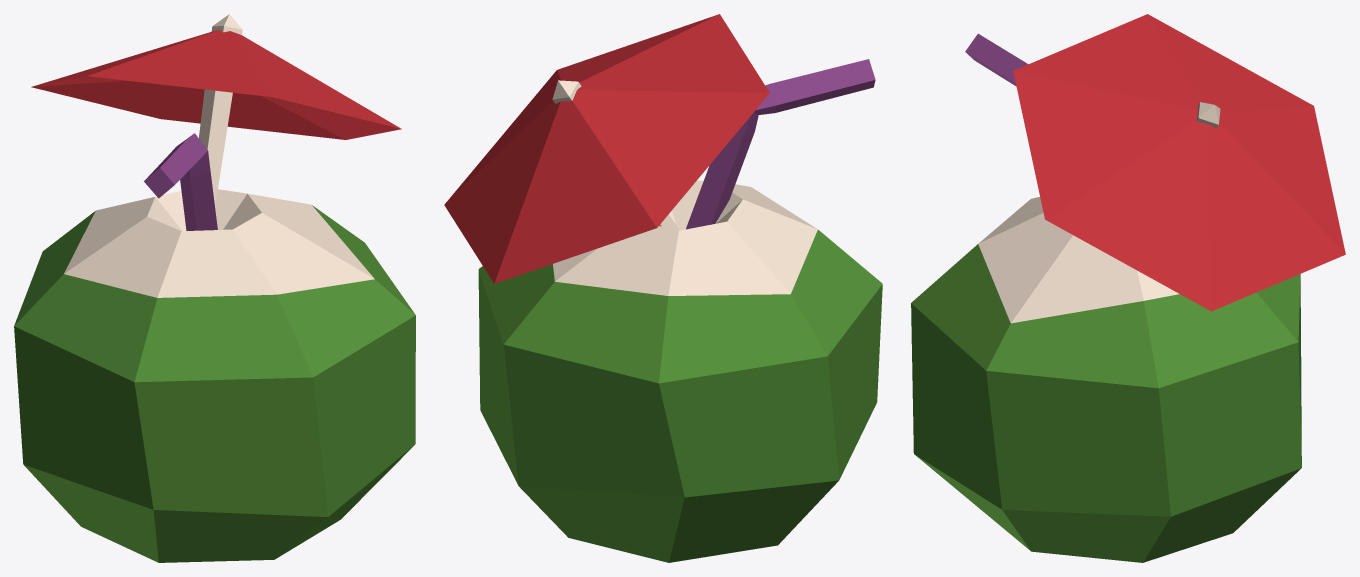
Rendered from drinks-drink-coconut.glb.
The picture shows the model from 3 angles, left to right: view 1: azimuth 30°, elevation 25°; view 2: azimuth 150°, elevation 25°; view 3: azimuth 270°, elevation 25°; orthographic projection.
Parts seen in each view (by area): view 1: drink-coconut; view 2: drink-coconut; view 3: drink-coconut.
Part boxes in pixels (x1,y1,x2,y2): drink-coconut: (14,14,415,562); drink-coconut: (444,14,882,562); drink-coconut: (911,14,1345,562).
Bounding box in the file's own units: 0.192 × 0.2437 × 0.2044.
